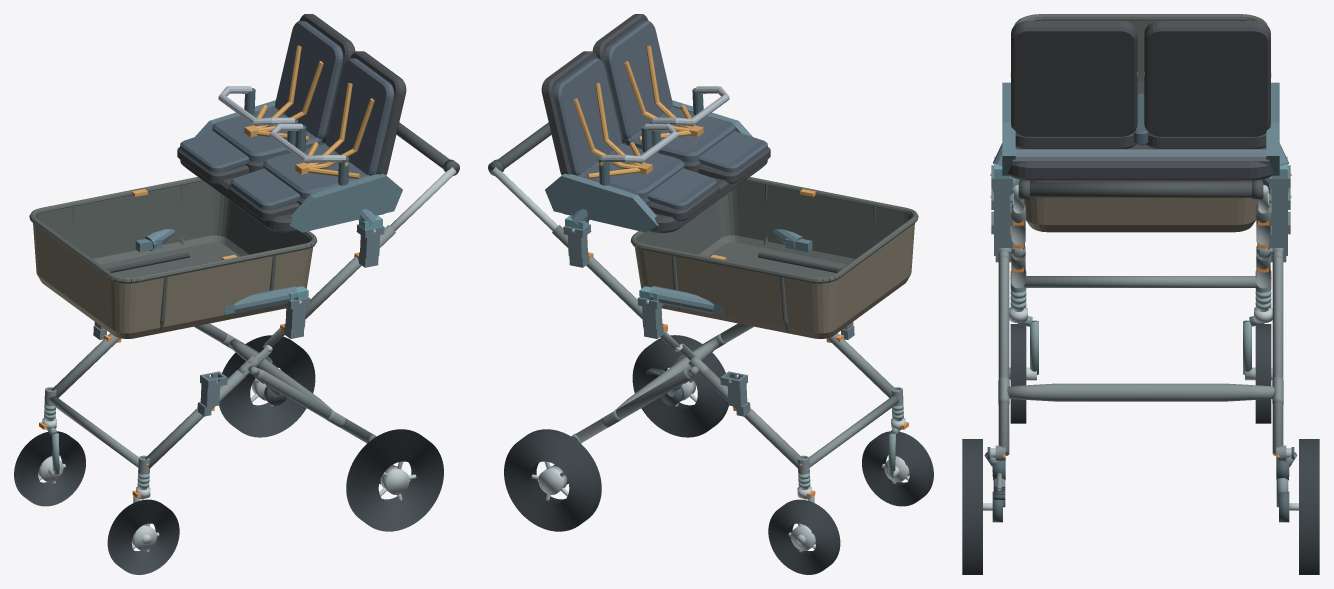
The model's file is D28_w650_state1_wheel_M.glb.
The picture shows the model from 3 angles, left to right: view 1: azimuth 30°, elevation 25°; view 2: azimuth 150°, elevation 25°; view 3: azimuth 270°, elevation 25°; orthographic projection. The views are drawn at different scales.
Visible parts, largest first — view 1: D28_Lower, D28_Upper, RL_tire.008, RR_tire.008, FL_tire.008, FR_tire.008, D28_Lower_Mount_M, V46_rear_leg_-1.009, main_lower_-1.009, front_fixed_round_tube.008, main_upper_-1.009, main_lower_1.009 (+7 smaller); view 2: D28_Lower, D28_Upper, RR_tire.008, RL_tire.008, FR_tire.008, FL_tire.008, D28_Lower_Mount_M, V46_rear_leg_1.009, main_lower_1.009, front_fixed_round_tube.008, main_upper_1.009, main_lower_-1.009 (+7 smaller); view 3: D28_Upper, D28_Lower, V46_rearbar.009, round_handle.008, RL_tire.008, RR_tire.008, front_fixed_round_tube.008, V46_rear_leg_1.009, V46_rear_leg_-1.009, FL_tire.008, FR_tire.008, Universal_Cabin_Receiver_H_1 (+8 smaller).
Boxes of the visible parts, x1,y1,x2,y2 form: D28_Lower: (29, 177, 317, 338); D28_Upper: (177, 14, 406, 232); RL_tire.008: (346, 429, 443, 531); RR_tire.008: (219, 335, 315, 437); FL_tire.008: (107, 499, 179, 574); FR_tire.008: (14, 431, 85, 506); D28_Lower_Mount_M: (135, 229, 308, 314); V46_rear_leg_-1.009: (256, 369, 372, 443); main_lower_-1.009: (145, 370, 248, 468); front_fixed_round_tube.008: (48, 396, 138, 467); main_upper_-1.009: (285, 225, 395, 323); main_lower_1.009: (51, 333, 120, 397); D28_Lower: (630, 177, 918, 338); D28_Upper: (541, 14, 770, 232); RR_tire.008: (504, 429, 601, 531); RL_tire.008: (632, 335, 728, 437); FR_tire.008: (768, 499, 840, 574); FL_tire.008: (862, 431, 933, 506); D28_Lower_Mount_M: (639, 229, 812, 314); V46_rear_leg_1.009: (575, 369, 691, 443); main_lower_1.009: (699, 370, 802, 468); front_fixed_round_tube.008: (809, 396, 899, 467); main_upper_1.009: (552, 225, 662, 323); main_lower_-1.009: (827, 333, 896, 397); D28_Upper: (1002, 20, 1279, 180); D28_Lower: (1014, 14, 1267, 232); V46_rearbar.009: (1007, 383, 1274, 401); round_handle.008: (1018, 182, 1263, 197); RL_tire.008: (962, 439, 982, 574); RR_tire.008: (1299, 439, 1319, 574); front_fixed_round_tube.008: (1024, 276, 1257, 287); V46_rear_leg_1.009: (1272, 255, 1283, 455); V46_rear_leg_-1.009: (998, 255, 1009, 455); FL_tire.008: (1010, 324, 1026, 423); FR_tire.008: (1255, 324, 1271, 423); Universal_Cabin_Receiver_H_1: (1269, 165, 1290, 225).
Bounding box in the file's own units: 1.16 × 1.37 × 0.7871.
